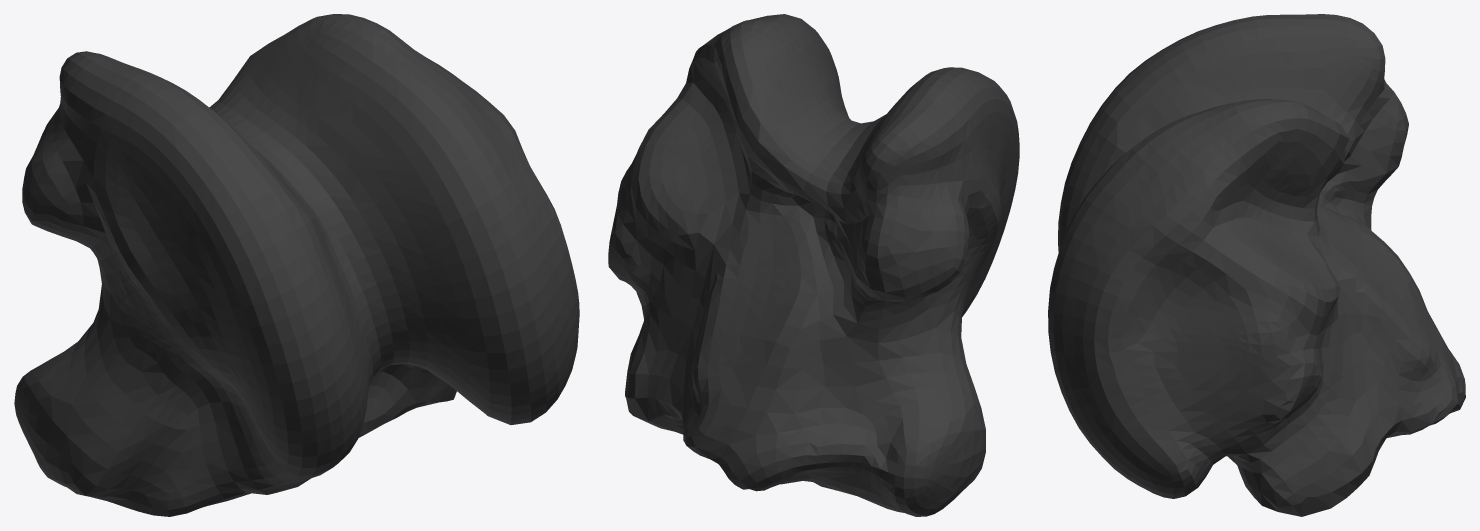
The model's file is Talus.glb.
The picture shows the model from 3 angles, left to right: view 1: azimuth 30°, elevation 25°; view 2: azimuth 150°, elevation 25°; view 3: azimuth 270°, elevation 25°; orthographic projection. The views are drawn at different scales.
Visible parts, largest first — view 1: Talus; view 2: Talus; view 3: Talus.
Boxes of the visible parts, x1,y1,x2,y2 form: Talus: (14, 14, 579, 516); Talus: (608, 14, 1019, 516); Talus: (1048, 14, 1465, 516).
Size of the model in its own units: 161 by 156 by 147.
Materials: 1 (1 with a texture image).
